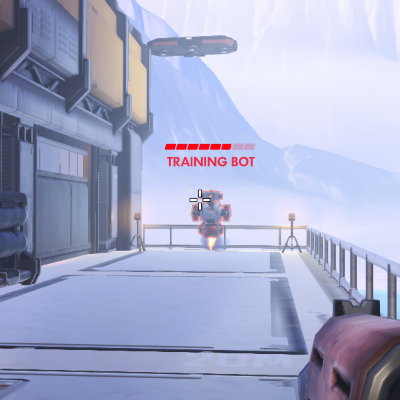hpbar: (164, 143, 256, 150)
